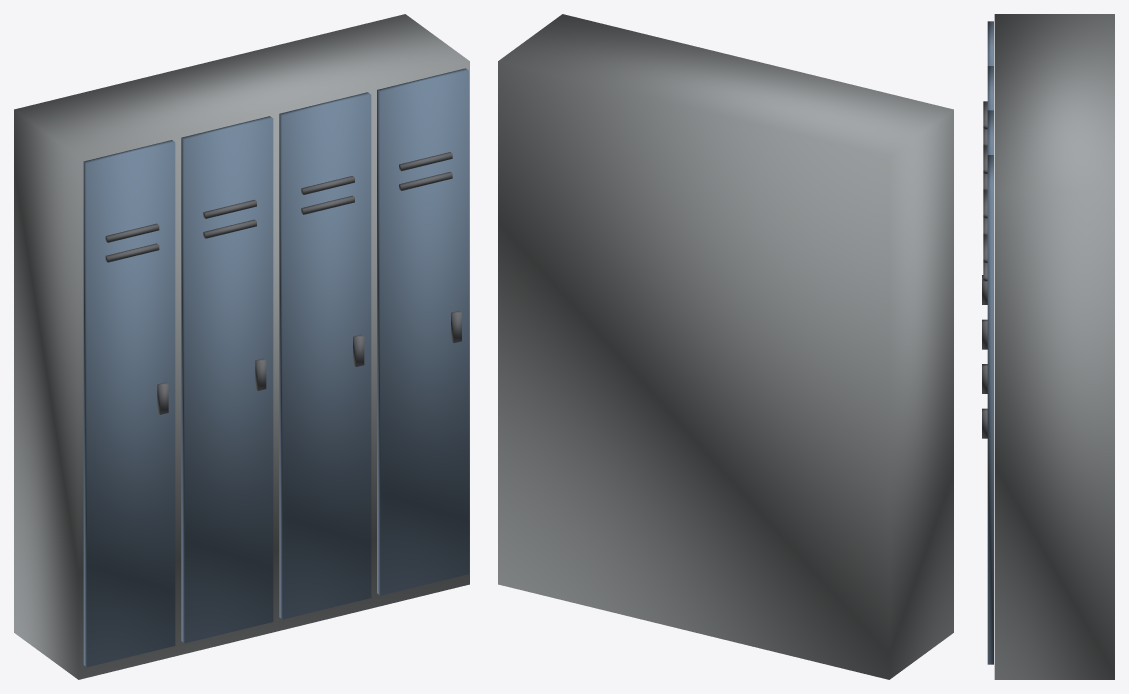
The model's file is equipment_locker__tall.glb.
3 views of the same model, side by side, from view 1: azimuth 30°, elevation 25°; view 2: azimuth 150°, elevation 25°; view 3: azimuth 270°, elevation 25° (orthographic). The views are drawn at different scales.
Visible parts, largest first — view 1: world; view 2: world; view 3: world.
Part boxes in pixels (x1,y1,x2,y2): world: (14, 14, 469, 679); world: (498, 14, 953, 679); world: (982, 14, 1114, 679).
Size of the model in its own units: 1.68 by 2.15 by 0.53.
